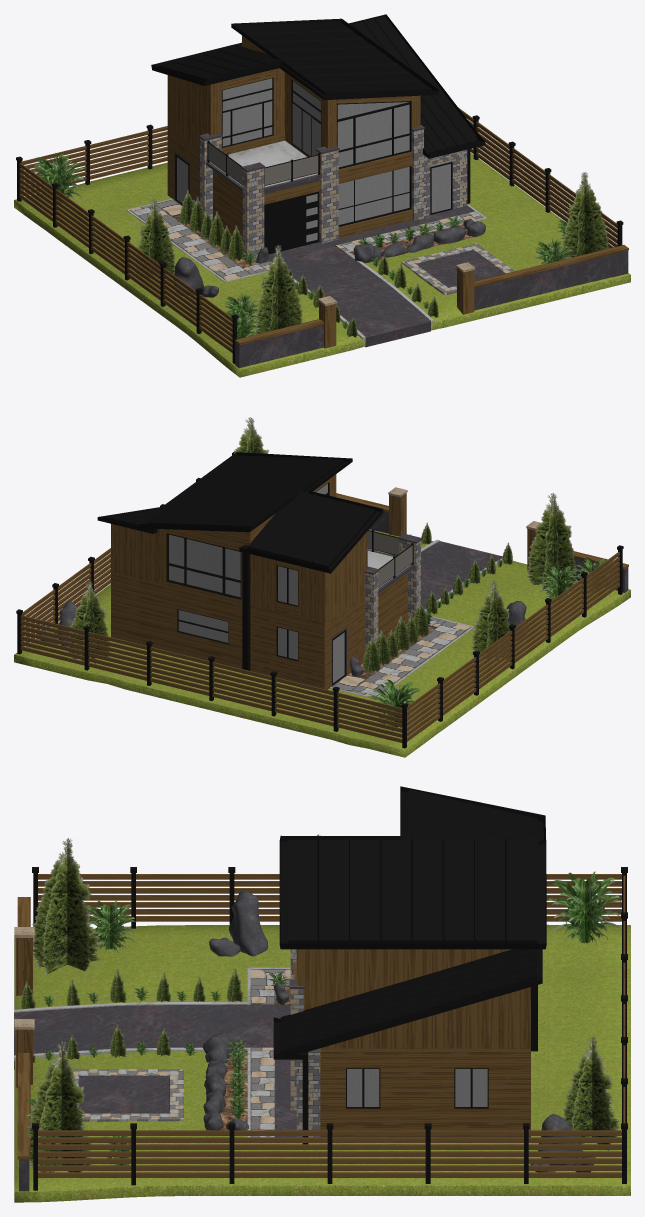
Rendered from modern_house.glb.
3 views of the same model, one above another, from view 1: azimuth 30°, elevation 25°; view 2: azimuth 150°, elevation 25°; view 3: azimuth 270°, elevation 25° (orthographic). The views are drawn at different scales.
Visible parts, largest first — view 1: Grass, Driveway, Roof Main, Fence, Front fence 2, Ref house.002, Roof 3, Fence.001, Path, Window front 2nd floor.001, Fence.002, Window front 1st floor (+44 smaller); view 2: Grass, Fence.002, Roof Main, Ref house, Ref house.003, Fence, Roof 2, Ref house.002, Window front 2nd floor.002, Gutter, Path, Pine.004 (+28 smaller); view 3: Grass, Roof Main, Fence.001, Ref house.006, Driveway, Roof 3, Fence, Ref house.005, Gutter, Pine.004, Front lawn design, Roof 2 (+26 smaller).
Boxes of the visible parts, <box> form: Grass: <box>14,152,630,377</box>; Driveway: <box>267,206,473,347</box>; Roof Main: <box>234,22,431,93</box>; Fence: <box>19,163,232,352</box>; Front fence 2: <box>474,245,628,310</box>; Ref house.002: <box>167,75,210,202</box>; Roof 3: <box>351,16,478,156</box>; Fence.001: <box>458,107,617,248</box>; Path: <box>129,199,483,280</box>; Window front 2nd floor.001: <box>337,103,411,169</box>; Fence.002: <box>21,126,167,195</box>; Window front 1st floor: <box>338,166,411,226</box>; Grass: <box>14,529,630,757</box>; Fence.002: <box>20,615,402,742</box>; Roof Main: <box>146,455,344,529</box>; Ref house: <box>111,572,242,668</box>; Ref house.003: <box>250,554,324,688</box>; Fence: <box>407,552,619,741</box>; Roof 2: <box>247,491,375,567</box>; Ref house.002: <box>324,531,367,689</box>; Window front 2nd floor.002: <box>166,533,241,599</box>; Gutter: <box>139,452,383,573</box>; Path: <box>331,617,471,696</box>; Pine.004: <box>527,493,577,590</box>; Grass: <box>14,924,630,1202</box>; Roof Main: <box>288,838,537,942</box>; Fence.001: <box>38,1130,621,1177</box>; Ref house.006: <box>320,987,530,1137</box>; Driveway: <box>14,1005,296,1137</box>; Roof 3: <box>280,949,537,1052</box>; Fence: <box>38,874,621,921</box>; Ref house.005: <box>296,949,511,1010</box>; Gutter: <box>279,786,546,949</box>; Pine.004: <box>32,838,100,974</box>; Front lawn design: <box>73,1069,183,1121</box>; Roof 2: <box>408,789,537,839</box>.
Bounding box in the file's own units: 21.06 × 8.6 × 21.07.
6 materials, 6 textured.
